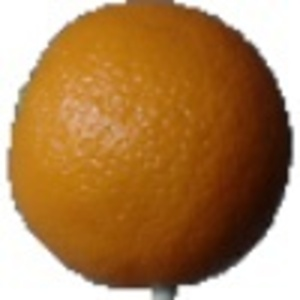laranja: (4, 2, 294, 292)
